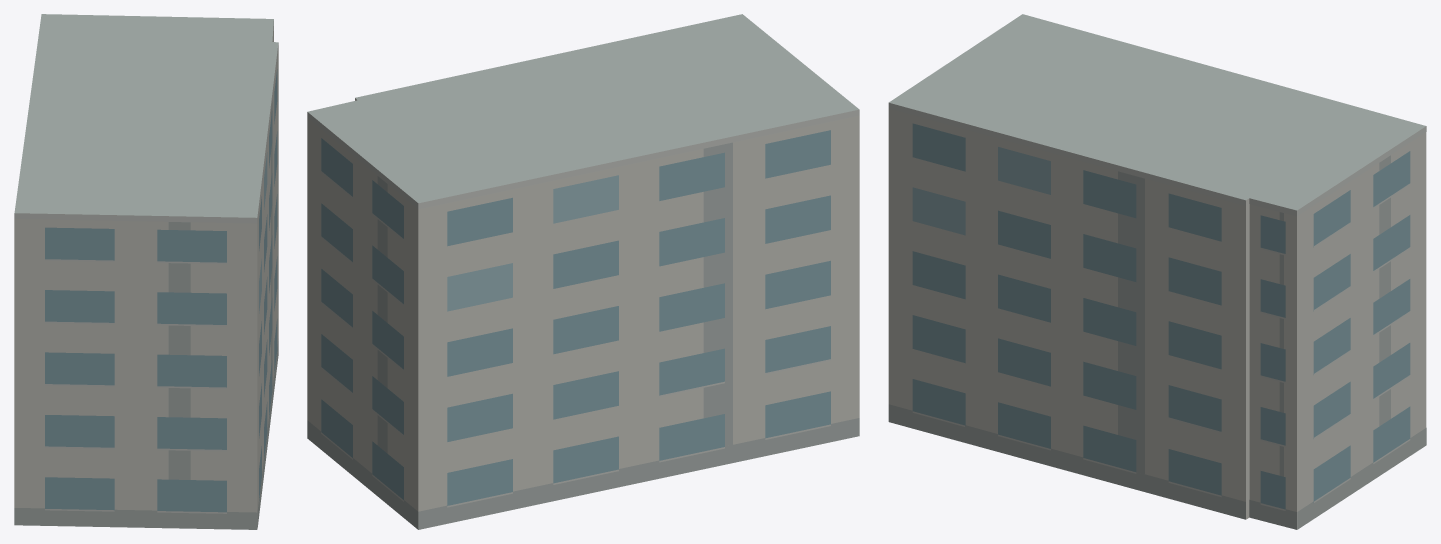
The model's file is survey-upis-32893501.glb.
The picture shows the model from 3 angles, left to right: view 1: azimuth 30°, elevation 25°; view 2: azimuth 150°, elevation 25°; view 3: azimuth 270°, elevation 25°; orthographic projection. The views are drawn at different scales.
Visible parts, largest first — view 1: survey-upis-32893501.tmp; view 2: survey-upis-32893501.tmp; view 3: survey-upis-32893501.tmp.
Boxes of the visible parts, bbox=[...] form: survey-upis-32893501.tmp: bbox=[14, 14, 278, 529]; survey-upis-32893501.tmp: bbox=[307, 14, 859, 529]; survey-upis-32893501.tmp: bbox=[888, 14, 1426, 529].
Size of the model in its own units: 17.37 by 13.15 by 20.08.
